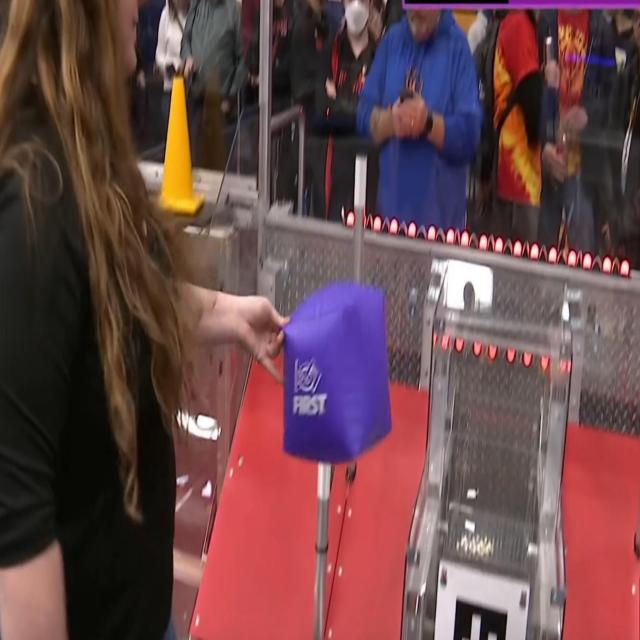frc_cone: (157, 76, 205, 220)
frc_cube: (282, 284, 388, 461)
